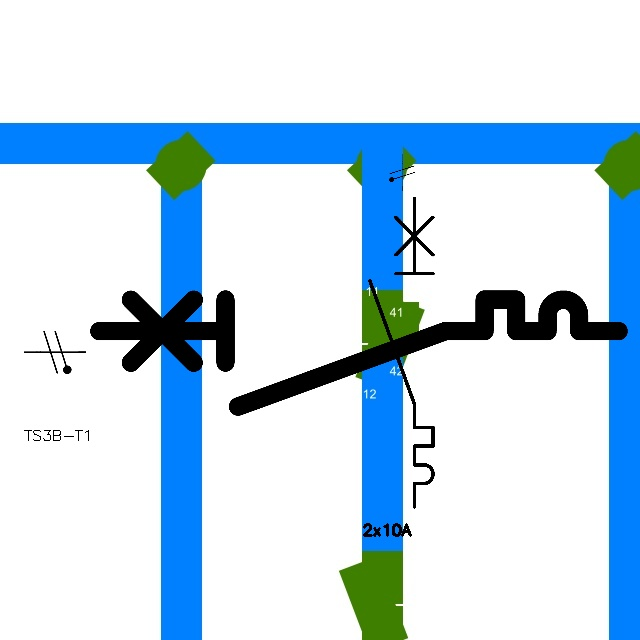interruptor_termomagnetico: (85, 286, 631, 419), (362, 190, 441, 514)
